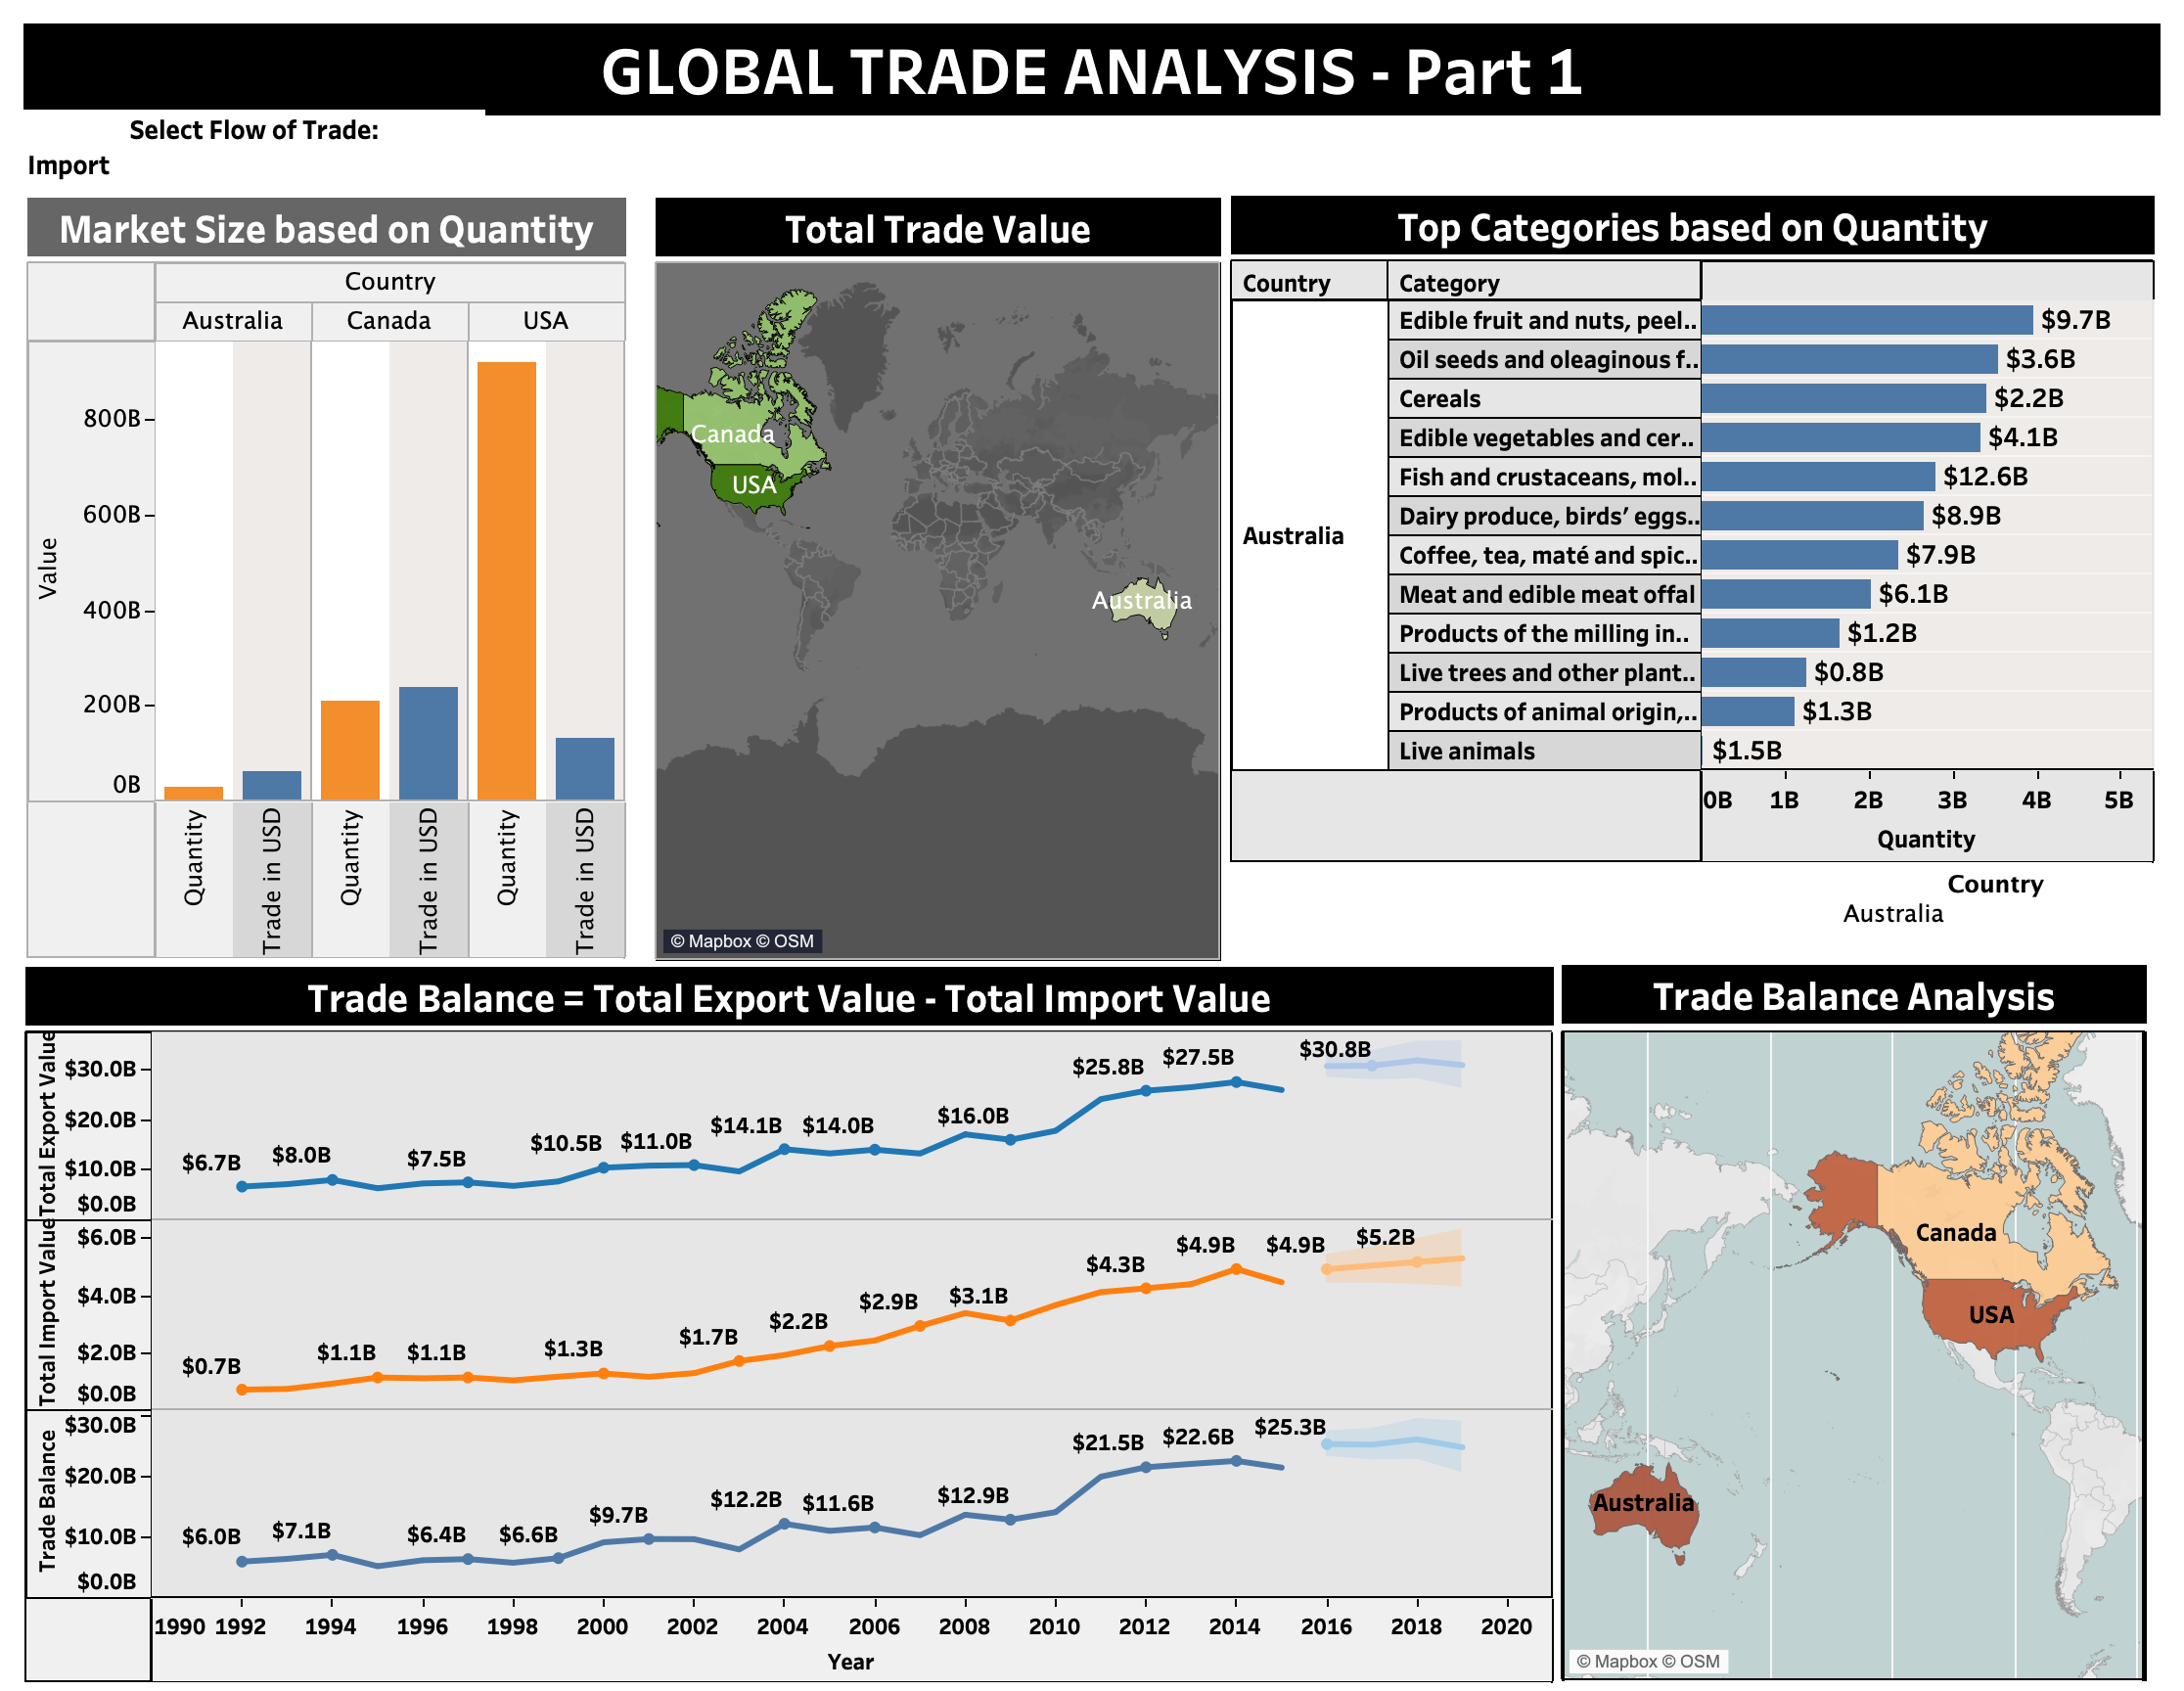

The page's visual inventory and layout, read from the dashboard file:
{"tool":"tableau","page":{"name":"GLOBAL TRADE ANALYSIS - 1 ","canvas":[1116,864],"ordinal":0},"visuals":[{"type":"title","box":[8,8,1100,55]},{"type":"filter","title":"Total Trade Value ","param":"[federated.1bxhuul1wvcy0012xsuoj0f1pn9y].[none:Flow:nk]","box":[12.1,56.5,236.2,45.7]},{"type":"filter","title":"Total Trade Value ","param":"[federated.1bxhuul1wvcy0012xsuoj0f1pn9y].[none:Country:nk]","box":[251.5,56.5,221.9,40.3]},{"type":"worksheet","title":"Top Categories based on Quantity","mark":"Automatic","rows":["Country","Category"],"cols":["Quantity"],"box":[629,100,472,387]},{"type":"worksheet","title":"Market Size","mark":"Automatic","cols":["Country"],"box":[14.3,101.3,351.5,389]},{"type":"worksheet","title":"Total Trade Value ","mark":"Automatic","box":[335,101.3,288.9,389.9]},{"type":"filter","title":"Top Categories based on Quantity","param":"[federated.1bxhuul1wvcy0012xsuoj0f1pn9y].[none:Country:nk]","box":[940,443,160,94]},{"type":"worksheet","title":"Trade Balance Analysis","mark":"Automatic","box":[797.5,492.9,301,367.5]},{"type":"worksheet","title":"Trade Balance","mark":"Line","rows":["Flow (copy)","Flow (copy 2)","Calculation_797418645337538563"],"cols":["Year"],"box":[13.2,493.8,781,365.7]}]}

Visuals, with their boxes in screenshot pixels (x1, y1, x2, y2), scaled from the page's 1116x864 canvas onto the 2184x1691 screenshot:
title: l=16, t=16, r=2168, b=123
"Total Trade Value " filter: l=23, t=111, r=486, b=200
"Total Trade Value " filter: l=492, t=111, r=927, b=190
"Top Categories based on Quantity" worksheet: l=1231, t=196, r=2155, b=953
"Market Size" worksheet: l=28, t=199, r=716, b=960
"Total Trade Value " worksheet: l=656, t=199, r=1221, b=961
"Top Categories based on Quantity" filter: l=1840, t=867, r=2153, b=1051
"Trade Balance Analysis" worksheet: l=1561, t=965, r=2150, b=1684
"Trade Balance" worksheet (Line marks): l=25, t=967, r=1554, b=1682
